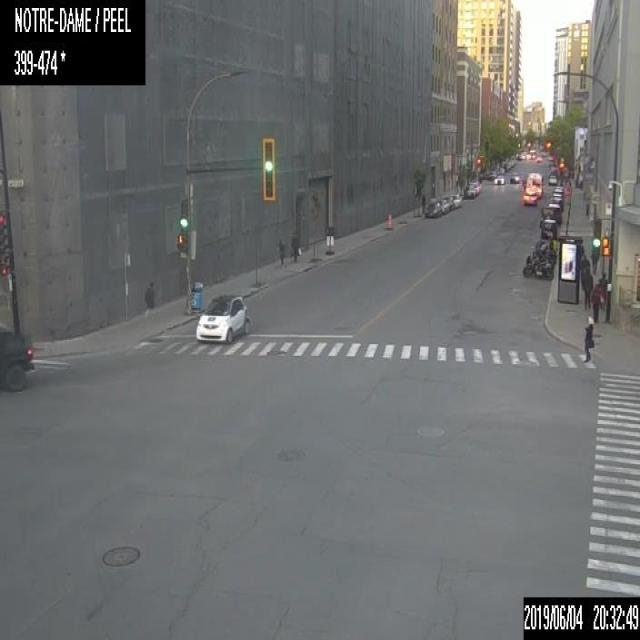bus: (522, 171, 542, 198)
construction: (324, 225, 334, 254), (385, 212, 392, 229)
pedestrian: (579, 314, 595, 364), (582, 267, 594, 309), (144, 278, 156, 318), (590, 282, 601, 323), (579, 254, 590, 292), (598, 271, 607, 310), (289, 232, 300, 261), (276, 233, 284, 263), (591, 253, 599, 273), (419, 192, 426, 213), (580, 243, 584, 261)
vehicle: (194, 292, 250, 342), (0, 329, 35, 389), (522, 256, 553, 280), (532, 246, 556, 262), (543, 202, 561, 222), (540, 218, 557, 238), (436, 195, 454, 212), (424, 201, 441, 217), (522, 190, 536, 204), (551, 192, 563, 208), (449, 192, 461, 207), (535, 238, 552, 248), (463, 184, 475, 198), (468, 181, 480, 195), (552, 185, 564, 197), (508, 172, 520, 184), (492, 172, 504, 184), (548, 174, 556, 183)
